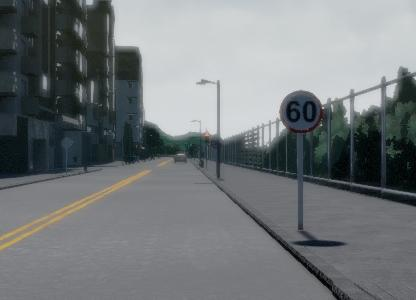Speed_60: (278, 87, 324, 136)
